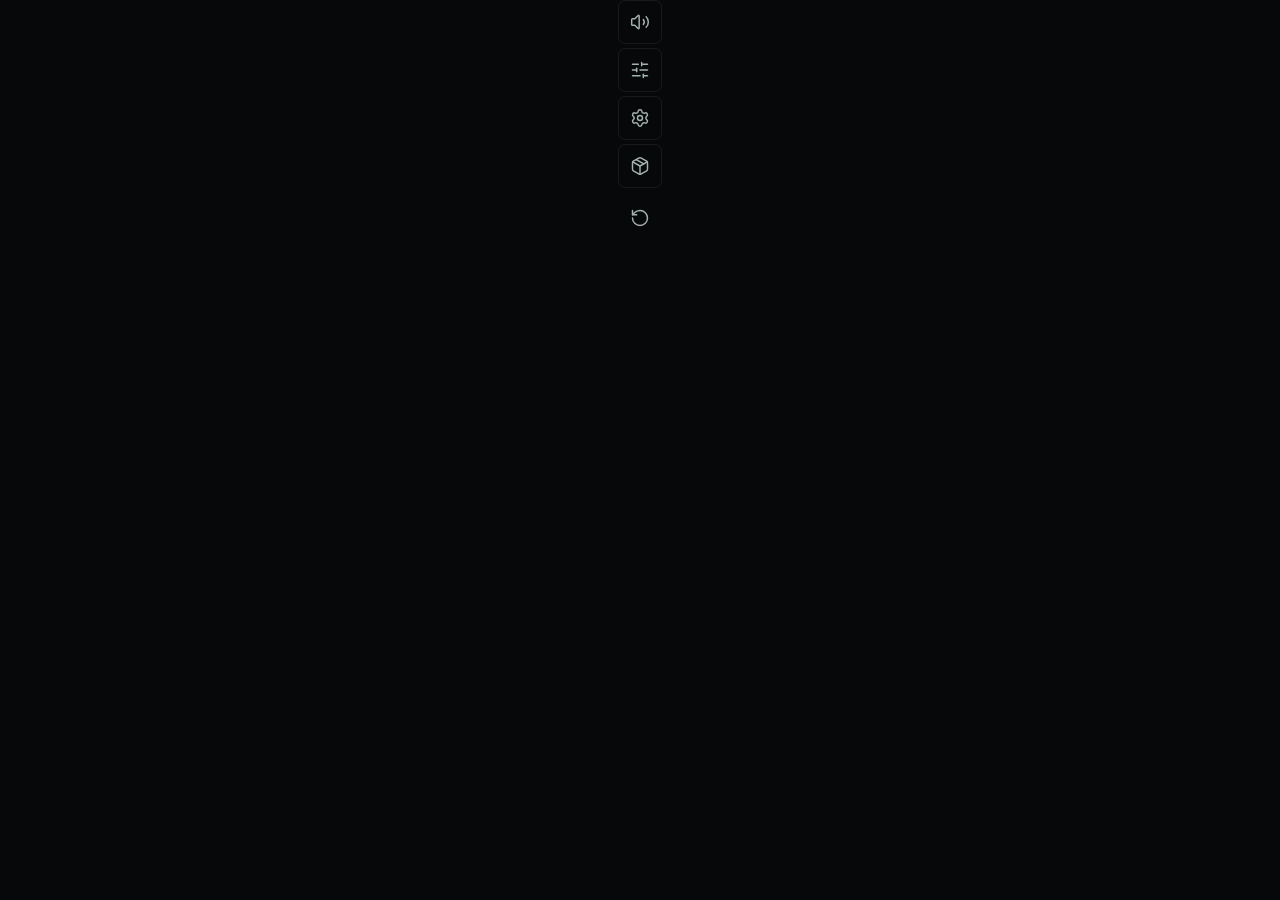
Test: ToolRail — Soundboard drawer › closes the Soundboard drawer when the scrim is clicked
What coordinates should you click on to do the following:
click the button with test id "btn-tool-soundboard"
I would click on:
 (640, 22)
Its box is [618,0,662,44].
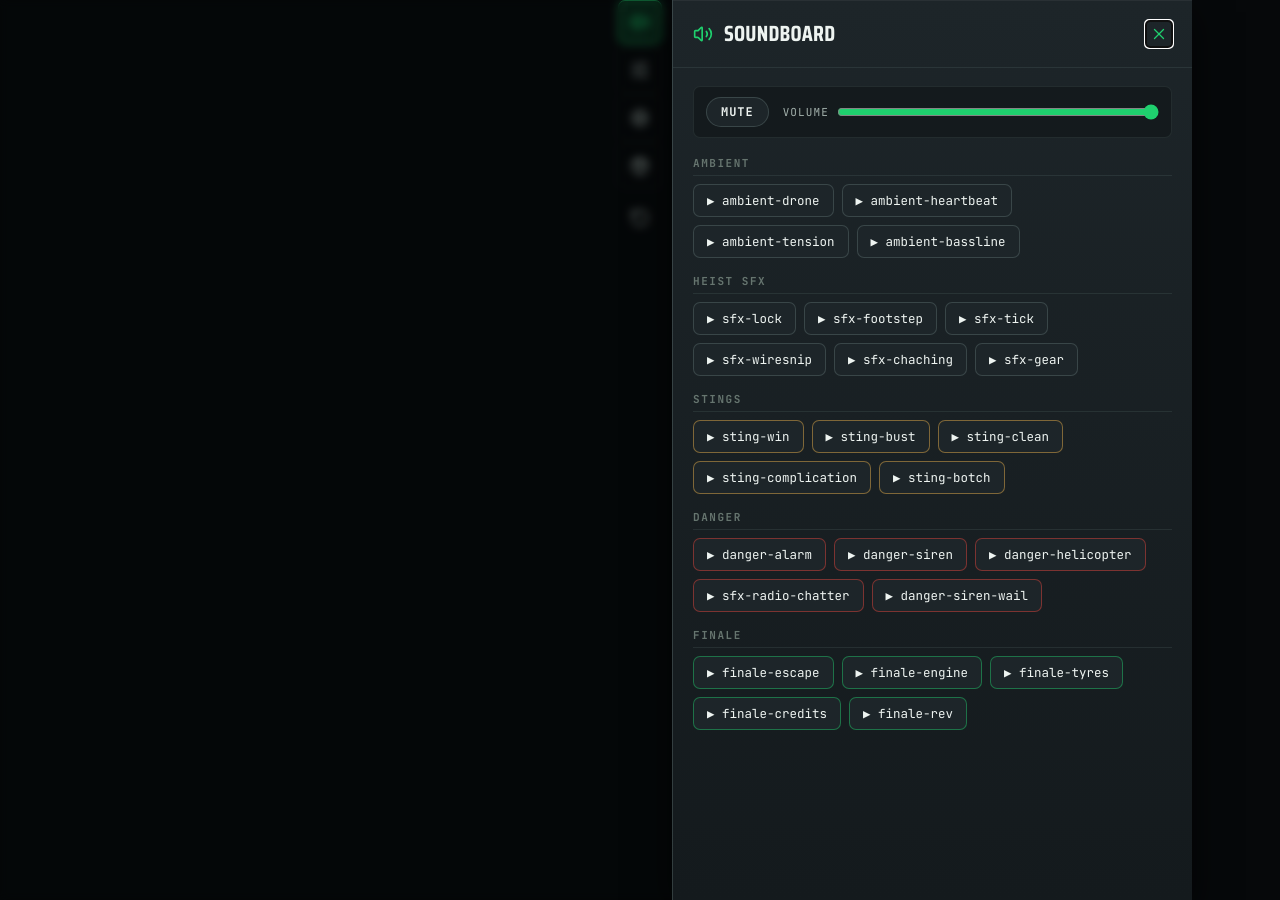
Result: the element with test id "drawer-soundboard" is shown at [672,0,1192,899]
What coordinates should you click on to do the following:
click the element with test id "cockpit-scrim"
I would click on:
 (596, 450)
Its box is [0,0,1192,899].
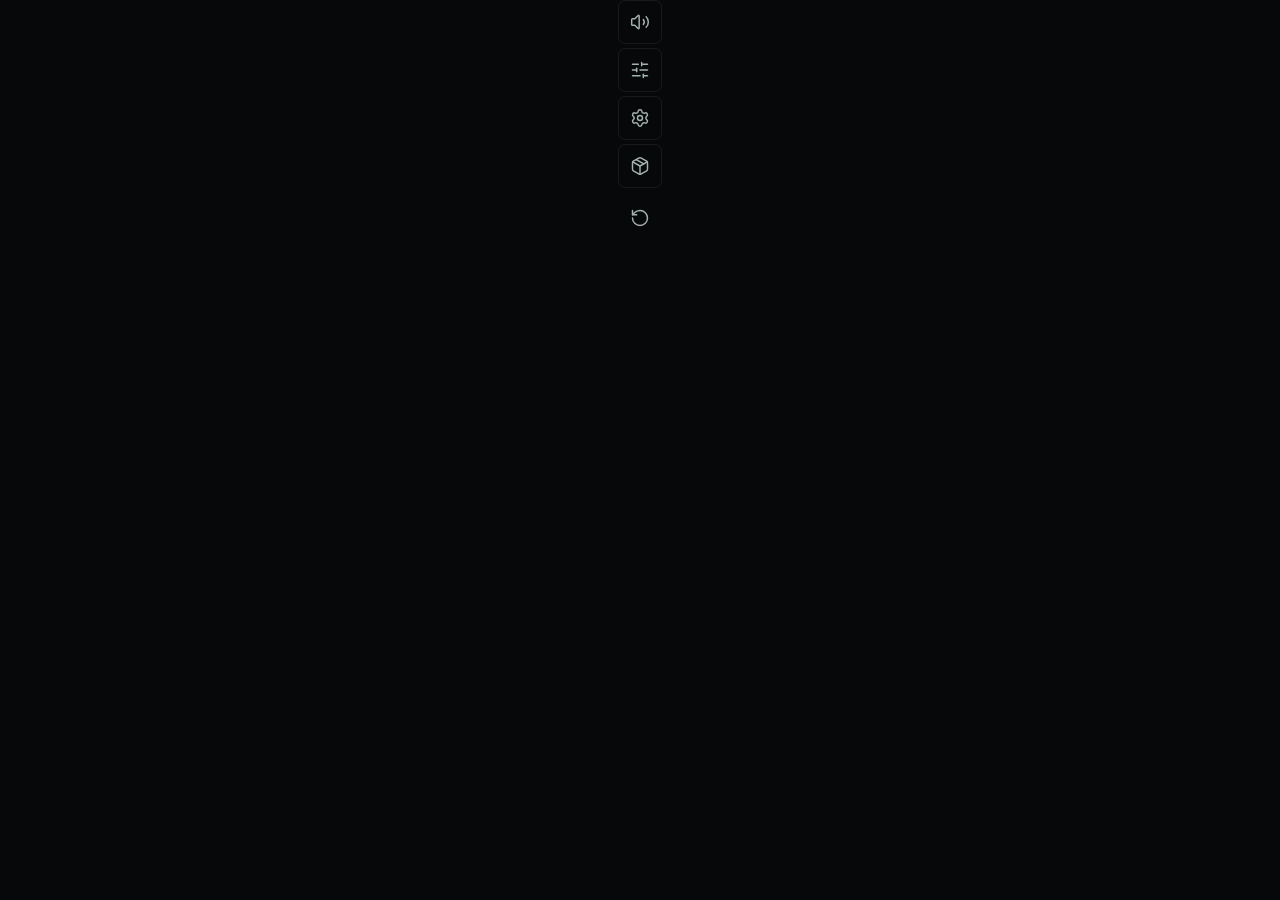
Result: the element with test id "drawer-soundboard" is gone
